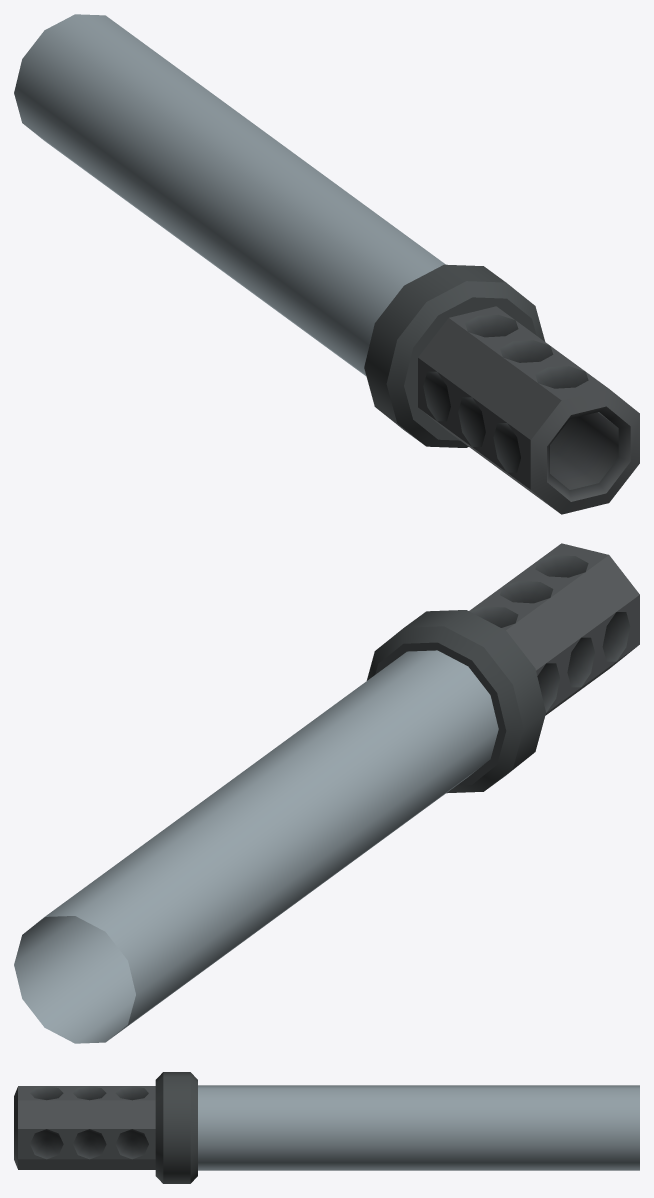
The model's file is Turret_005_Gun_01.fbx.
3 views of the same model, one above another, from view 1: azimuth 30°, elevation 25°; view 2: azimuth 150°, elevation 25°; view 3: azimuth 270°, elevation 25° (orthographic). The views are drawn at different scales.
Visible parts, largest first — view 1: Turret_005_Gun_01; view 2: Turret_005_Gun_01; view 3: Turret_005_Gun_01.
Part boxes in pixels (x1,y1,x2,y2): Turret_005_Gun_01: (14, 14, 639, 514); Turret_005_Gun_01: (14, 543, 639, 1043); Turret_005_Gun_01: (14, 1072, 639, 1183).
Bounding box in the file's own units: 25.77 × 144 × 25.77.
